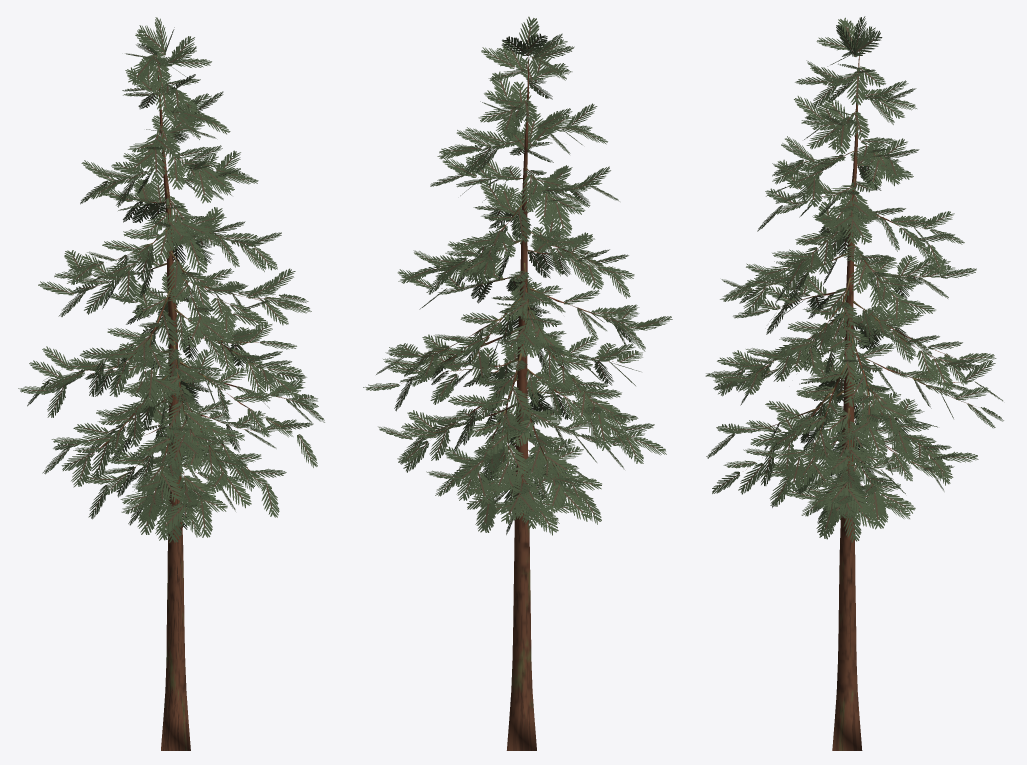
The model's file is F_Tree_01.fbx.
3 views of the same model, side by side, from view 1: azimuth 30°, elevation 25°; view 2: azimuth 150°, elevation 25°; view 3: azimuth 270°, elevation 25° (orthographic).
Visible parts, largest first — view 1: leaves, tree, tree.001; view 2: leaves, tree, tree.001; view 3: leaves, tree, tree.001.
Part boxes in pixels (x1,y1,x2,y2): leaves: (18,17,324,542); tree: (155,37,190,750); tree.001: (55,94,292,499); leaves: (363,16,672,535); tree: (506,53,536,750); tree.001: (401,57,627,498); leaves: (705,16,1003,542); tree: (832,36,862,750); tree.001: (740,65,973,492).
Bounding box in the file's own units: 511 × 1293 × 500.
2 materials, 2 textured.
